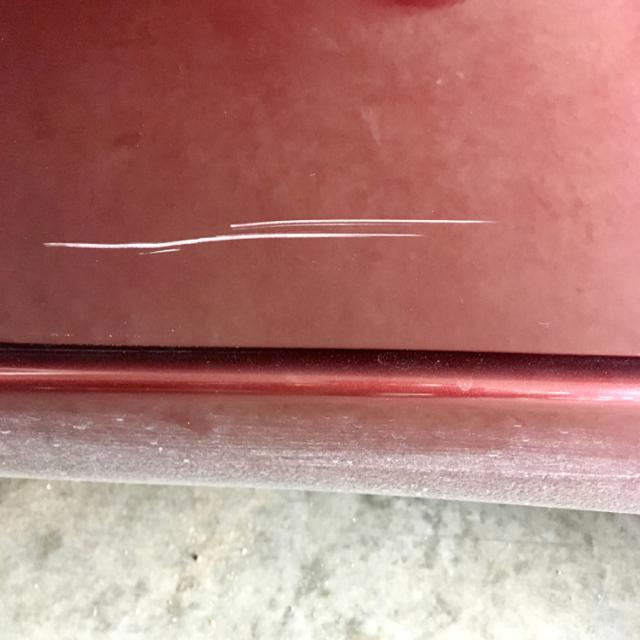scratch: (33, 216, 504, 262)
